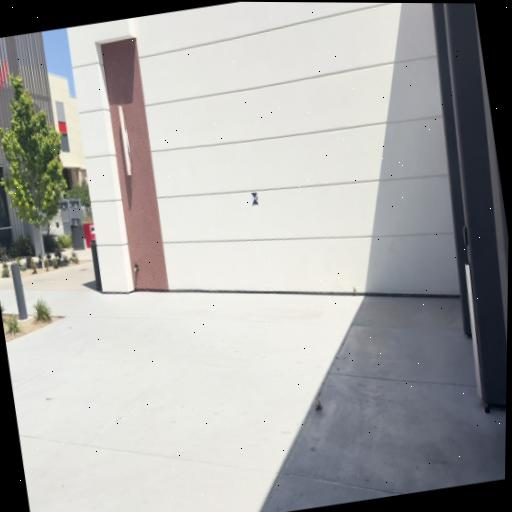target0: (250, 191, 258, 205)
